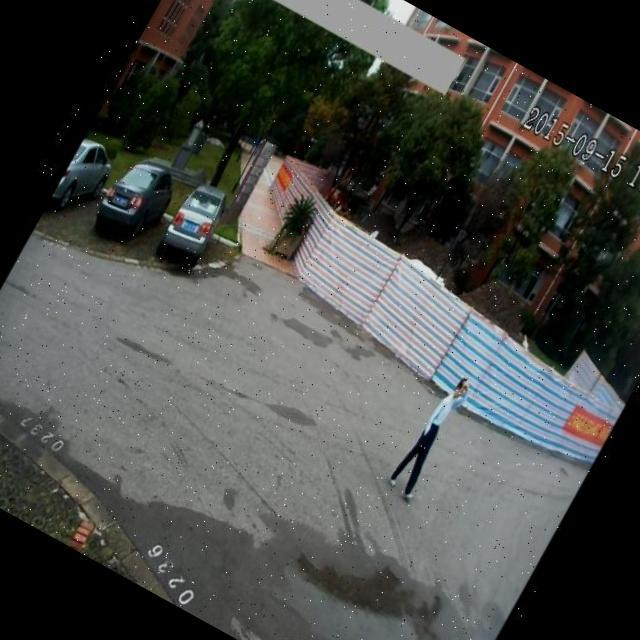person: (381, 368, 480, 511)
